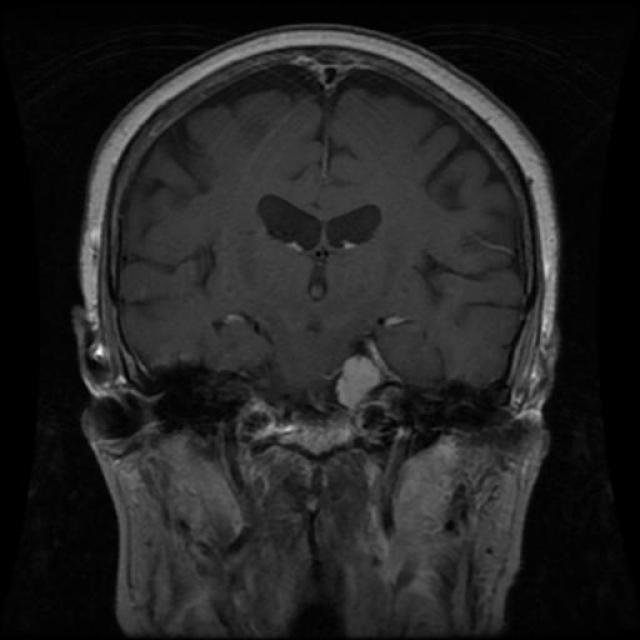meningioma: (336, 355, 381, 410)
